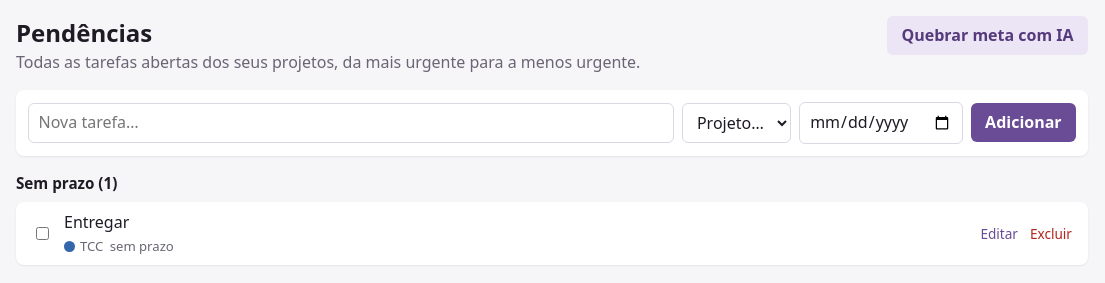
CentralView (spec H2) › exclui tarefa só depois de confirmar
Click the button named "Excluir \"Entregar\"".
click(1051, 233)  # box [1026,220,1076,247]
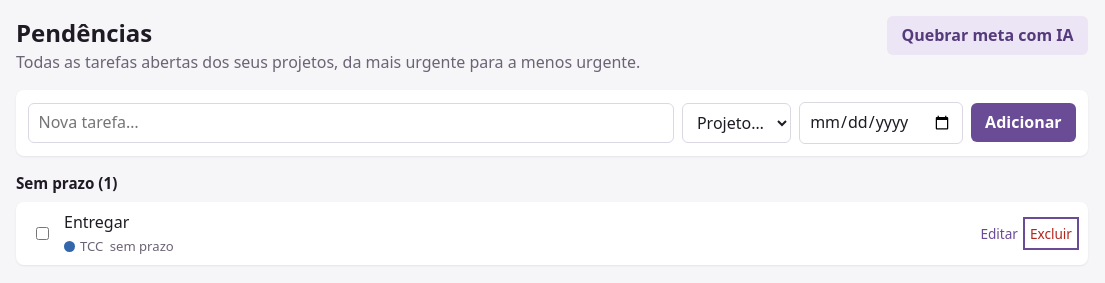
Click the button named "Excluir \"Entregar\"".
click(1051, 233)  # box [1026,220,1076,247]
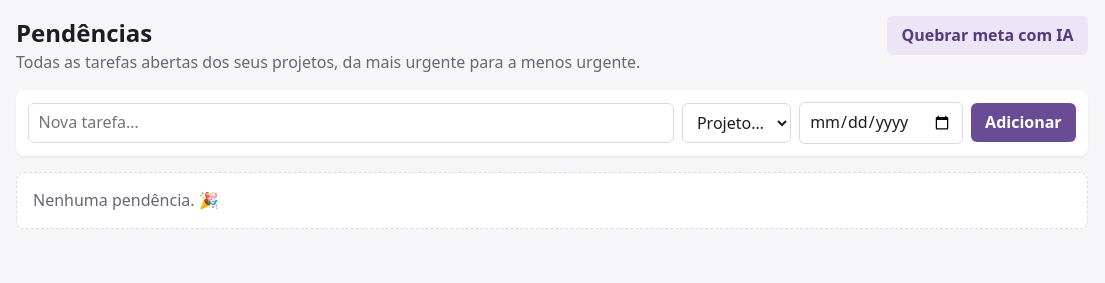
Expected: the text "Entregar" is gone
